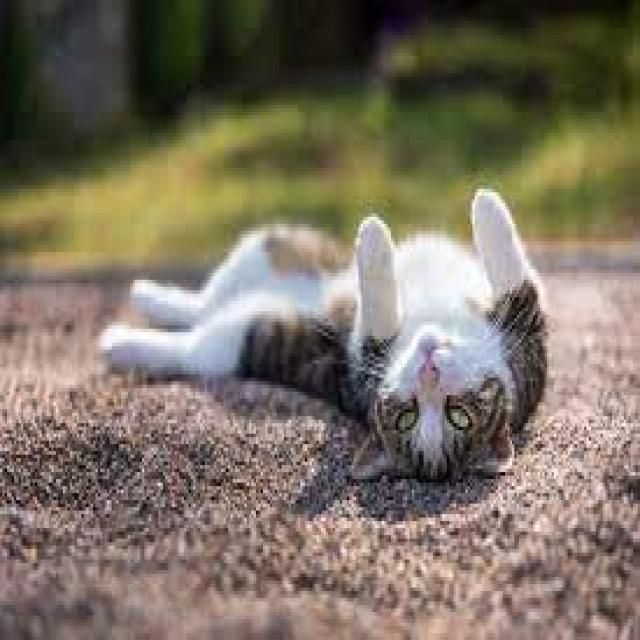cat: (105, 183, 558, 497)
